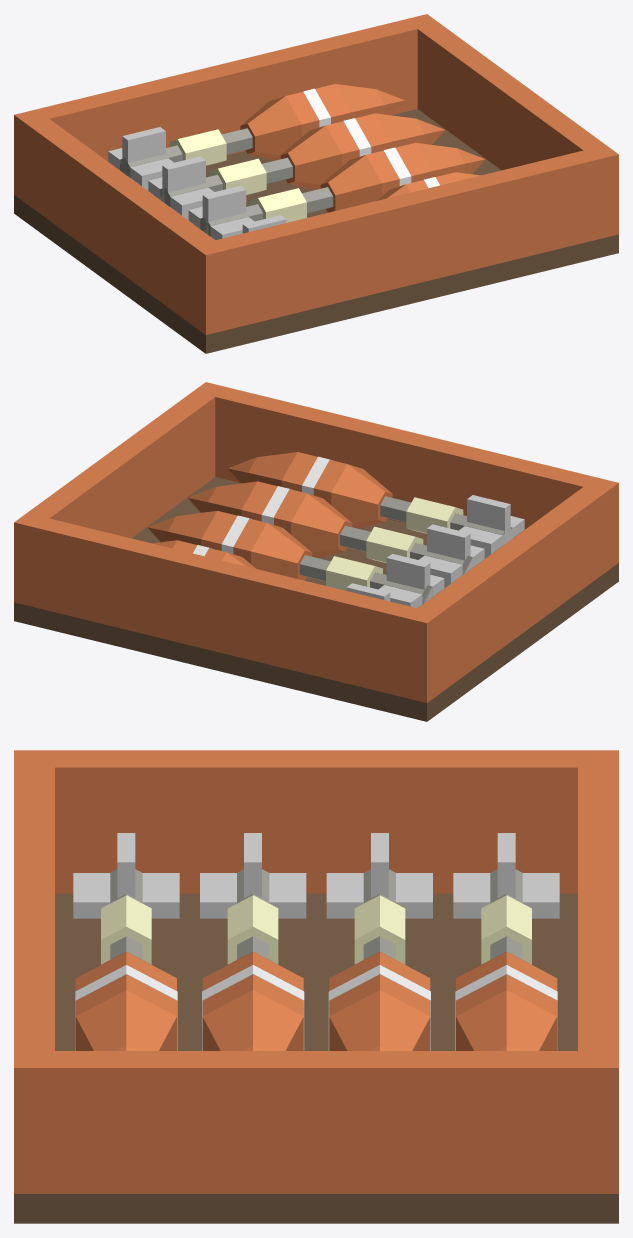
File: ce_ammo_mortar_inc_c.obj
3 renders of one model, top to bottom at view 1: azimuth 30°, elevation 25°; view 2: azimuth 150°, elevation 25°; view 3: azimuth 270°, elevation 25°, orthographic. The views are drawn at different scales.
Visible parts, largest first — view 1: ce_ammo_mortar_inc_c_3, ce_ammo_mortar_inc_c_1, ce_ammo_mortar_inc_c_4, ce_ammo_mortar_inc_c_2, ce_ammo_mortar_inc_c_0, ce_ammo_mortar_inc_c_37, ce_ammo_mortar_inc_c_27, ce_ammo_mortar_inc_c_17, ce_ammo_mortar_inc_c_36, ce_ammo_mortar_inc_c_24, ce_ammo_mortar_inc_c_26, ce_ammo_mortar_inc_c_34 (+20 smaller); view 2: ce_ammo_mortar_inc_c_4, ce_ammo_mortar_inc_c_1, ce_ammo_mortar_inc_c_3, ce_ammo_mortar_inc_c_2, ce_ammo_mortar_inc_c_0, ce_ammo_mortar_inc_c_7, ce_ammo_mortar_inc_c_17, ce_ammo_mortar_inc_c_27, ce_ammo_mortar_inc_c_14, ce_ammo_mortar_inc_c_6, ce_ammo_mortar_inc_c_16, ce_ammo_mortar_inc_c_26 (+20 smaller); view 3: ce_ammo_mortar_inc_c_2, ce_ammo_mortar_inc_c_1, ce_ammo_mortar_inc_c_0, ce_ammo_mortar_inc_c_3, ce_ammo_mortar_inc_c_4, ce_ammo_mortar_inc_c_21, ce_ammo_mortar_inc_c_31, ce_ammo_mortar_inc_c_11, ce_ammo_mortar_inc_c_41, ce_ammo_mortar_inc_c_13, ce_ammo_mortar_inc_c_43, ce_ammo_mortar_inc_c_23 (+25 smaller).
Part boxes in pixels (x1=…): ce_ammo_mortar_inc_c_3: x1=216, y1=150, x2=596, y2=329; ce_ammo_mortar_inc_c_1: x1=14, y1=109, x2=228, y2=334; ce_ammo_mortar_inc_c_4: x1=37, y1=19, x2=417, y2=169; ce_ammo_mortar_inc_c_2: x1=405, y1=14, x2=618, y2=239; ce_ammo_mortar_inc_c_0: x1=14, y1=109, x2=618, y2=353; ce_ammo_mortar_inc_c_37: x1=240, y1=96, x2=301, y2=160; ce_ammo_mortar_inc_c_27: x1=280, y1=125, x2=341, y2=189; ce_ammo_mortar_inc_c_17: x1=320, y1=155, x2=381, y2=212; ce_ammo_mortar_inc_c_36: x1=169, y1=129, x2=226, y2=165; ce_ammo_mortar_inc_c_24: x1=202, y1=186, x2=246, y2=240; ce_ammo_mortar_inc_c_26: x1=209, y1=158, x2=266, y2=194; ce_ammo_mortar_inc_c_34: x1=162, y1=156, x2=205, y2=224; ce_ammo_mortar_inc_c_4: x1=36, y1=518, x2=416, y2=697; ce_ammo_mortar_inc_c_1: x1=404, y1=477, x2=618, y2=702; ce_ammo_mortar_inc_c_3: x1=215, y1=387, x2=595, y2=537; ce_ammo_mortar_inc_c_2: x1=14, y1=382, x2=227, y2=607; ce_ammo_mortar_inc_c_0: x1=14, y1=477, x2=618, y2=721; ce_ammo_mortar_inc_c_7: x1=331, y1=464, x2=392, y2=528; ce_ammo_mortar_inc_c_17: x1=291, y1=493, x2=352, y2=557; ce_ammo_mortar_inc_c_27: x1=251, y1=523, x2=312, y2=580; ce_ammo_mortar_inc_c_14: x1=467, y1=495, x2=510, y2=562; ce_ammo_mortar_inc_c_6: x1=406, y1=497, x2=463, y2=533; ce_ammo_mortar_inc_c_16: x1=366, y1=526, x2=423, y2=562; ce_ammo_mortar_inc_c_26: x1=326, y1=556, x2=382, y2=590; ce_ammo_mortar_inc_c_2: x1=14, y1=1051, x2=618, y2=1193; ce_ammo_mortar_inc_c_1: x1=14, y1=750, x2=618, y2=893; ce_ammo_mortar_inc_c_0: x1=14, y1=893, x2=618, y2=1223; ce_ammo_mortar_inc_c_3: x1=14, y1=767, x2=54, y2=1050; ce_ammo_mortar_inc_c_4: x1=578, y1=767, x2=618, y2=1050; ce_ammo_mortar_inc_c_21: x1=202, y1=990, x2=303, y2=1050; ce_ammo_mortar_inc_c_31: x1=329, y1=990, x2=430, y2=1050; ce_ammo_mortar_inc_c_11: x1=75, y1=990, x2=176, y2=1050; ce_ammo_mortar_inc_c_41: x1=456, y1=990, x2=557, y2=1050; ce_ammo_mortar_inc_c_13: x1=73, y1=873, x2=179, y2=918; ce_ammo_mortar_inc_c_43: x1=453, y1=873, x2=559, y2=918; ce_ammo_mortar_inc_c_23: x1=200, y1=873, x2=306, y2=918.
Size of the model in its own units: 0.92 by 0.21 by 0.74.
